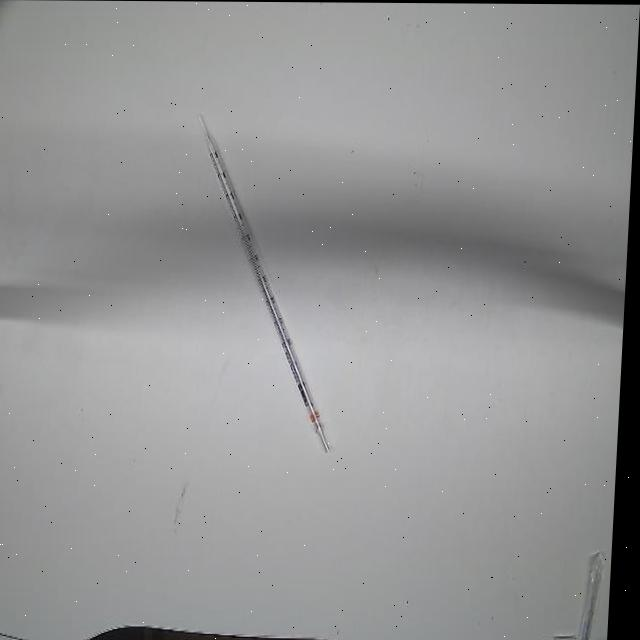Serelogical Pipet 10 mL: (183, 111, 356, 457)
